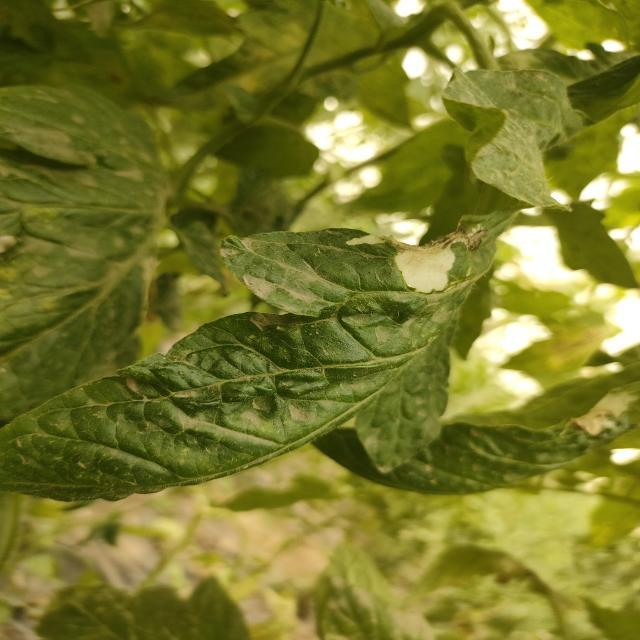Tuta absoluta: (393, 239, 462, 299), (345, 233, 386, 248)
